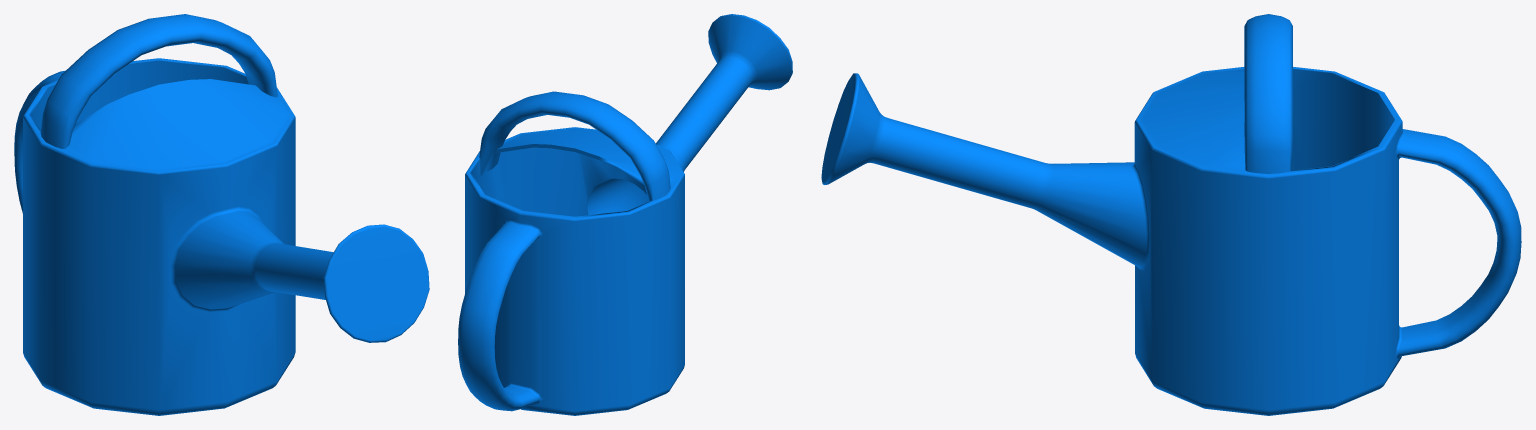
File: watering can WIP.fbx
3 renders of one model, left to right at view 1: azimuth 30°, elevation 25°; view 2: azimuth 150°, elevation 25°; view 3: azimuth 270°, elevation 25°, orthographic. The views are drawn at different scales.
Visible parts, largest first — view 1: WateringCan; view 2: WateringCan; view 3: WateringCan.
Part boxes in pixels (left/top/right/bottom): WateringCan: left=14, top=14, right=429, bottom=415; WateringCan: left=458, top=14, right=792, bottom=415; WateringCan: left=821, top=14, right=1521, bottom=415.
Bounding box in the file's own units: 36.93 × 50.97 × 96.39.
1 material, 1 textured.
